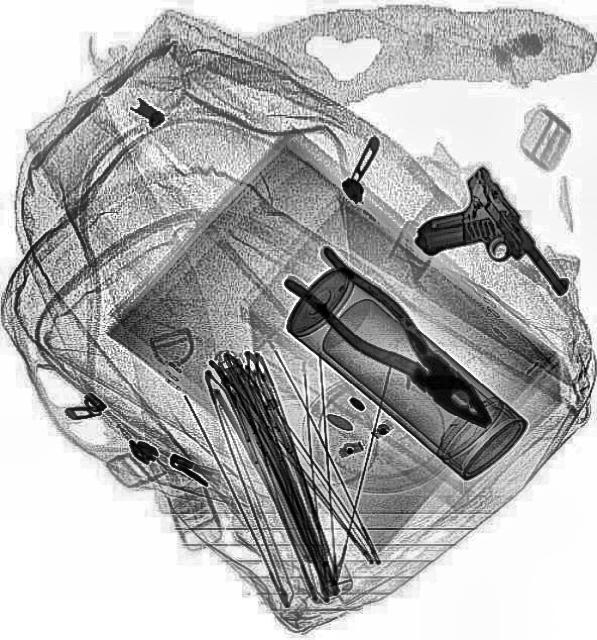Gun: (398, 162, 574, 346)
Pliers: (278, 236, 514, 448)
